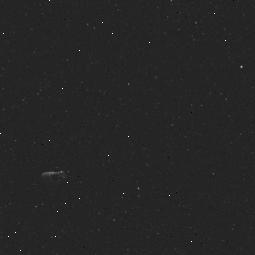debris: (39, 166, 71, 189)
